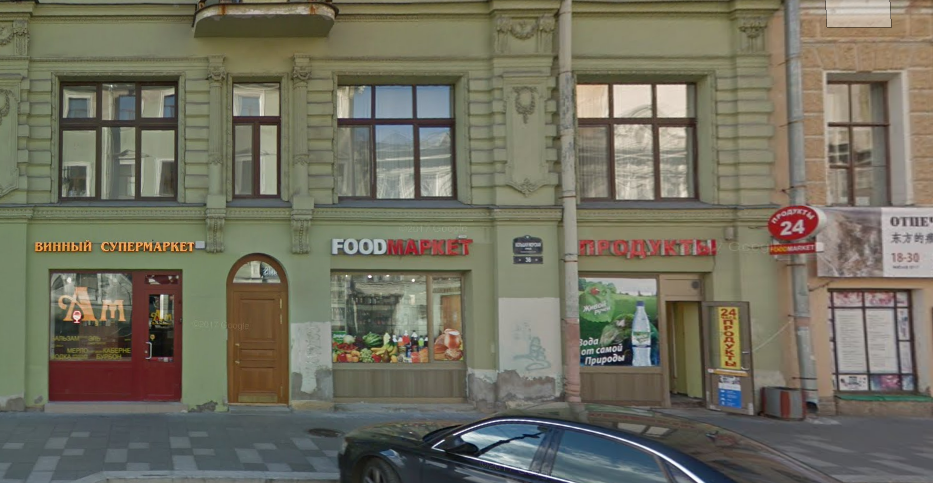cantilever: (745, 196, 829, 259)
door: (665, 296, 750, 420), (229, 280, 289, 404), (138, 281, 183, 406)
signboard: (28, 229, 209, 259), (327, 231, 480, 264), (574, 233, 717, 262)
window: (576, 79, 700, 200), (334, 79, 455, 201), (60, 79, 180, 201), (330, 268, 466, 362), (831, 288, 918, 396), (826, 81, 892, 203), (49, 268, 135, 361), (579, 275, 660, 371), (233, 80, 277, 199)
